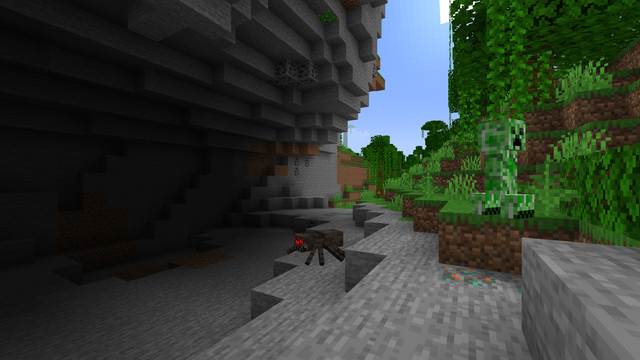araignees: (286, 225, 342, 265)
creepers: (480, 112, 525, 218)
